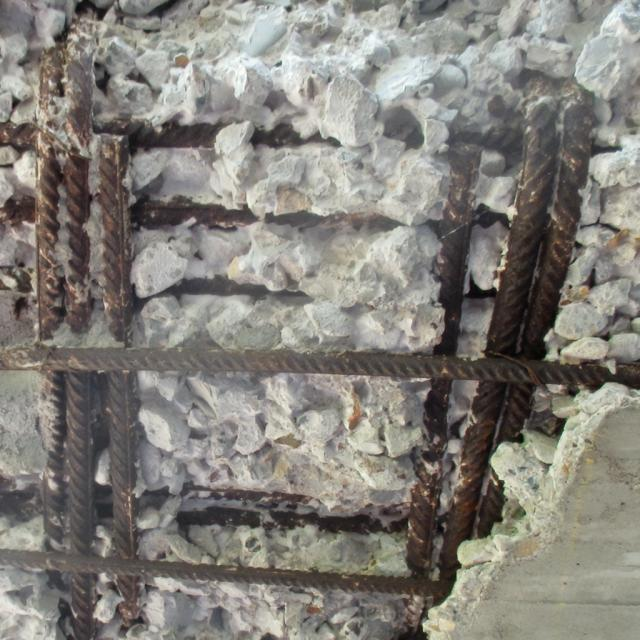D0w0: (26, 30, 639, 639)
